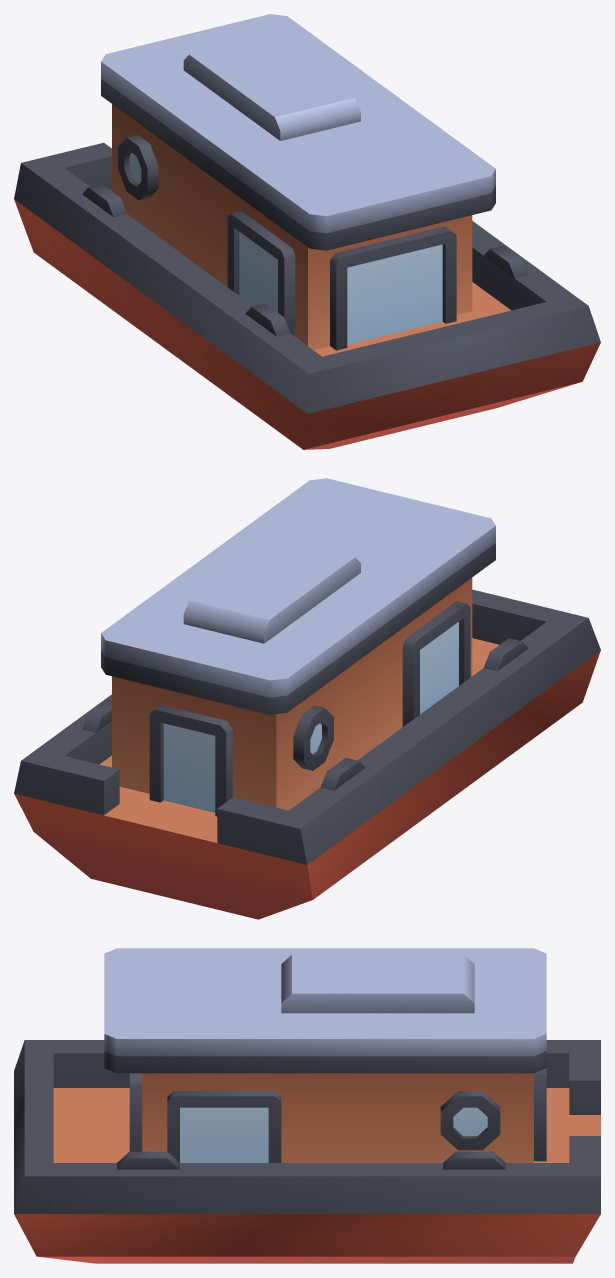
The model's file is boat_house_a.glb.
The picture shows the model from 3 angles, top to bottom: view 1: azimuth 30°, elevation 25°; view 2: azimuth 150°, elevation 25°; view 3: azimuth 270°, elevation 25°; orthographic projection.
Parts seen in each view (by area): view 1: boat-house-a; view 2: boat-house-a; view 3: boat-house-a.
Part boxes in pixels (<box>): boat-house-a: <box>14,14,600,449</box>; boat-house-a: <box>14,478,600,919</box>; boat-house-a: <box>14,948,600,1263</box>.
Size of the model in its own units: 2.68 by 2.17 by 4.64.
Materials: 1 (1 with a texture image).
